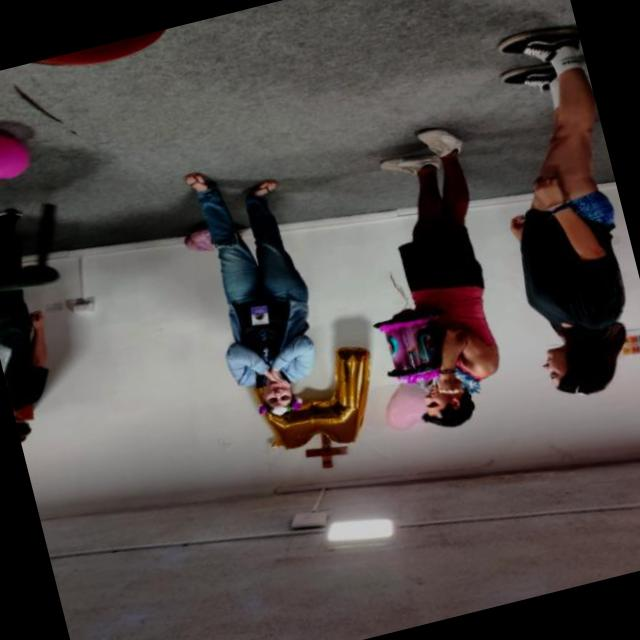person: (417, 0, 640, 436), (305, 94, 556, 465), (125, 131, 368, 459), (0, 184, 105, 457)
